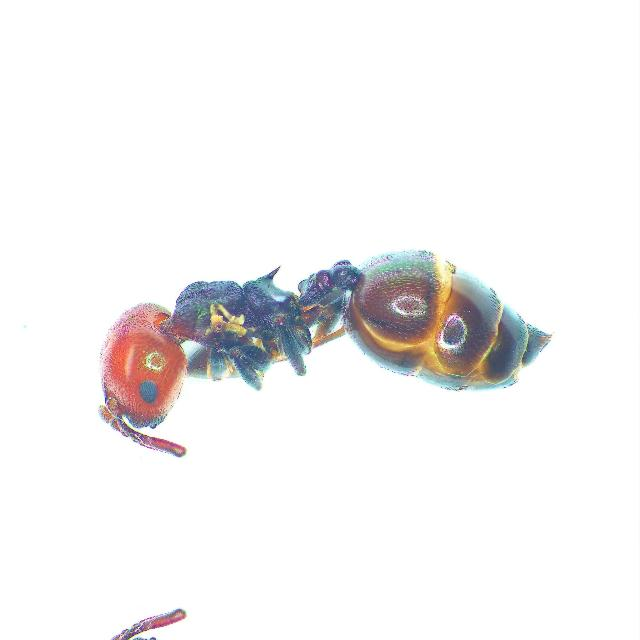Crematogaster: (96, 240, 552, 472), (96, 593, 552, 640)
